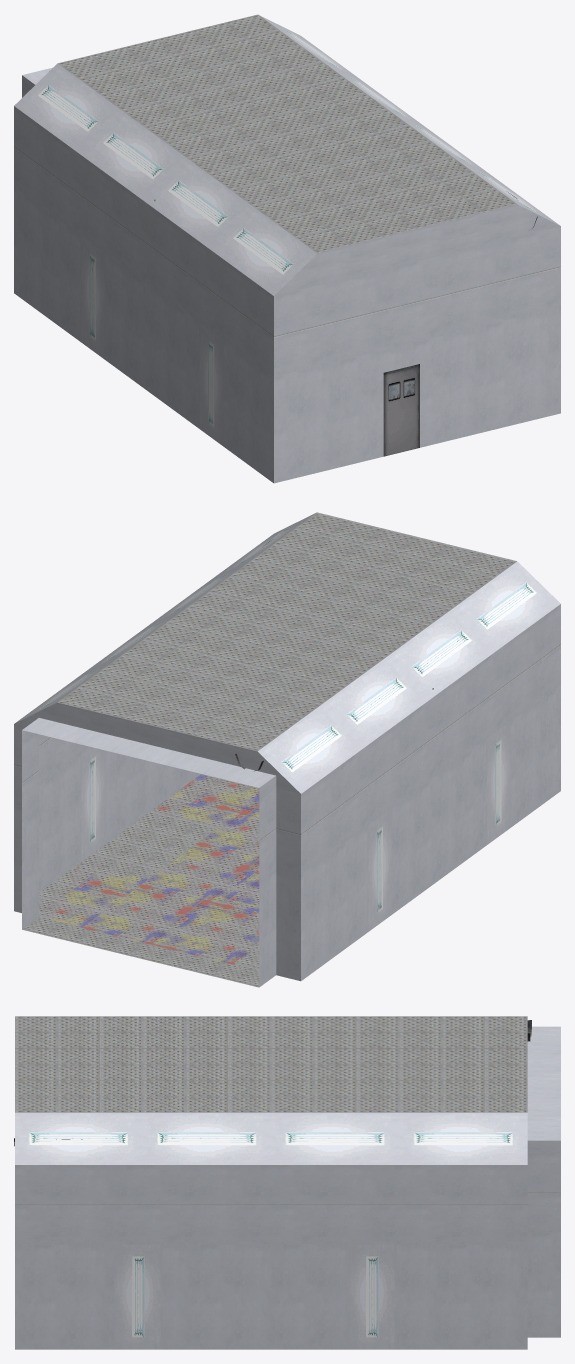
File: sprayshopint_sfse.obj
The picture shows the model from 3 angles, top to bottom: view 1: azimuth 30°, elevation 25°; view 2: azimuth 150°, elevation 25°; view 3: azimuth 270°, elevation 25°; orthographic projection.
Parts seen in each view (by area): view 1: sprayshopint_SFSe; view 2: sprayshopint_SFSe; view 3: sprayshopint_SFSe.
Part boxes in pixels (x1,y1,x2,y2): sprayshopint_SFSe: [14, 14, 560, 483]; sprayshopint_SFSe: [14, 512, 560, 987]; sprayshopint_SFSe: [14, 1016, 560, 1349].
Size of the model in its own units: 8.76 by 6.42 by 14.65.
Materials: 14 (14 with a texture image).
